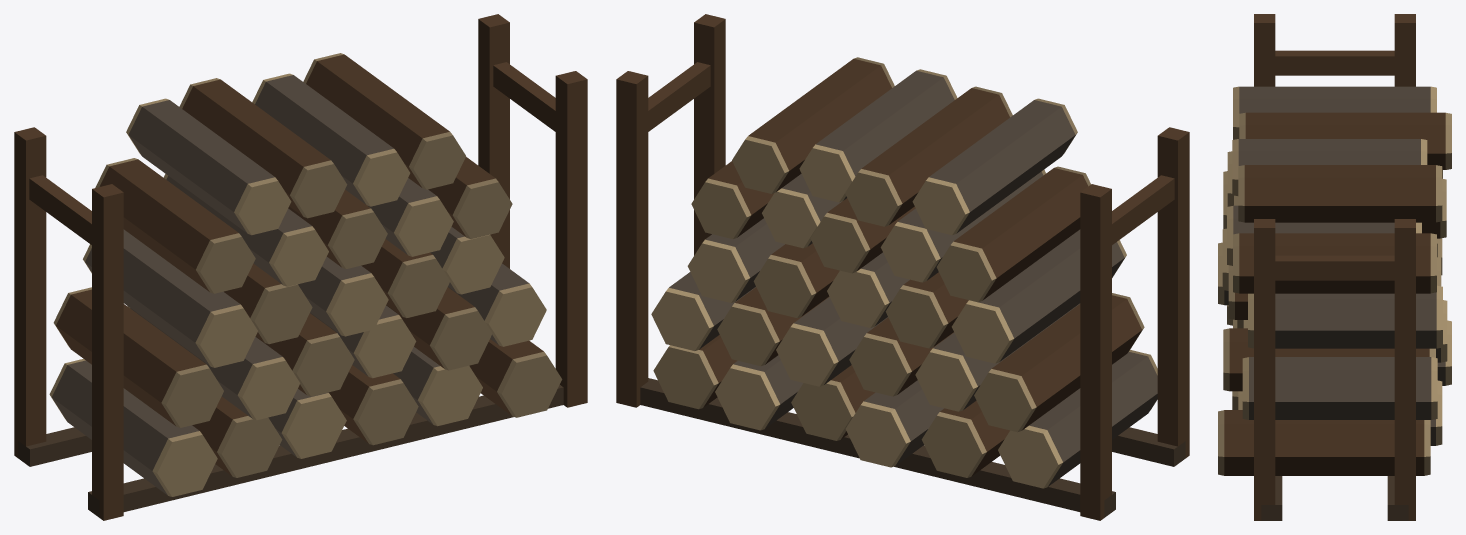
The model's file is prop_woodpile.glb.
3 views of the same model, side by side, from view 1: azimuth 30°, elevation 25°; view 2: azimuth 150°, elevation 25°; view 3: azimuth 270°, elevation 25° (orthographic). The views are drawn at different scales.
Parts seen in each view (by area): view 1: prop_woodpile; view 2: prop_woodpile; view 3: prop_woodpile.
Boxes of the visible parts, bbox=[...] form: prop_woodpile: bbox=[14, 14, 587, 520]; prop_woodpile: bbox=[616, 14, 1189, 520]; prop_woodpile: bbox=[1218, 14, 1451, 520].
Bounding box in the file's own units: 1.44 × 0.92 × 0.665.
